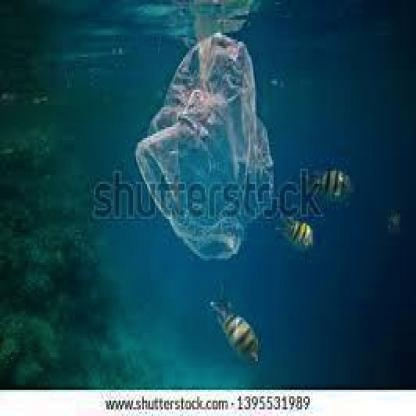pbag: (133, 28, 277, 263)
